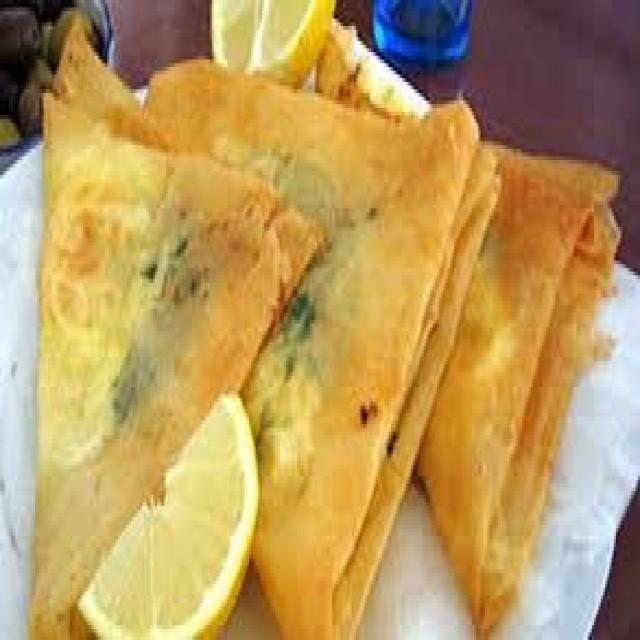brik: (15, 44, 305, 640), (230, 88, 500, 606), (458, 109, 629, 602)
